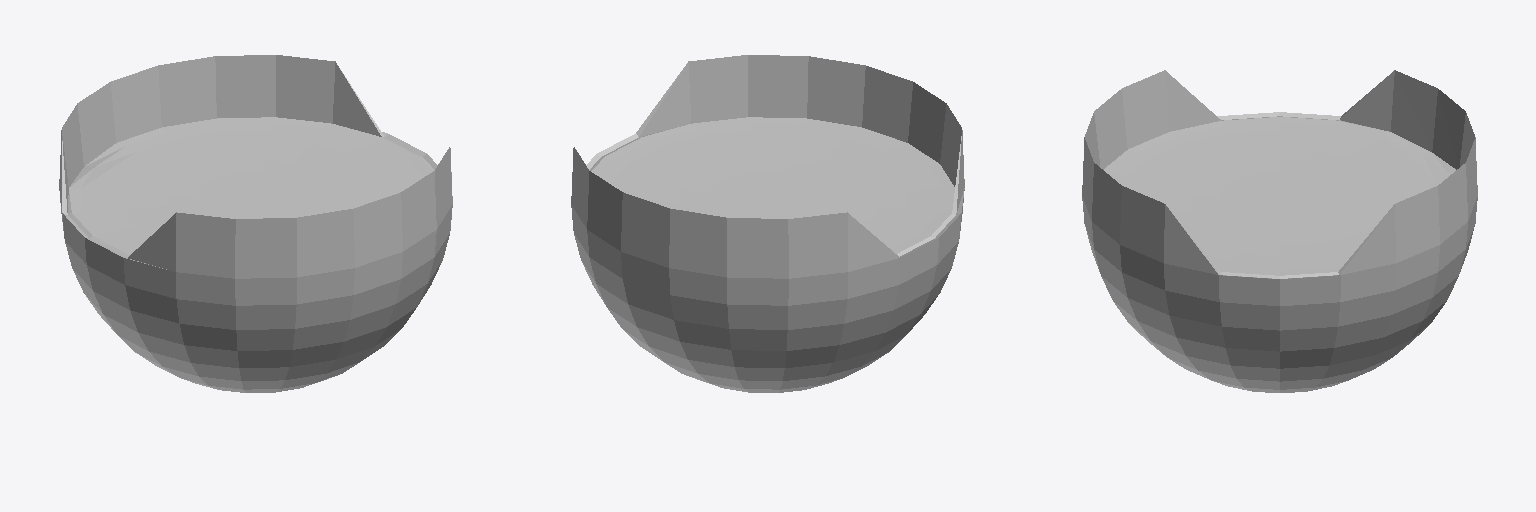
Rendered from stadium.obj.
3 renders of one model, left to right at view 1: azimuth 30°, elevation 25°; view 2: azimuth 150°, elevation 25°; view 3: azimuth 270°, elevation 25°, orthographic.
Visible parts, largest first — view 1: stadium; view 2: stadium; view 3: stadium.
Boxes of the visible parts, <box> form: stadium: <box>59,55,452,392</box>; stadium: <box>571,55,964,392</box>; stadium: <box>1082,70,1477,392</box>.
Size of the model in its own units: 1 by 0.6637 by 1.